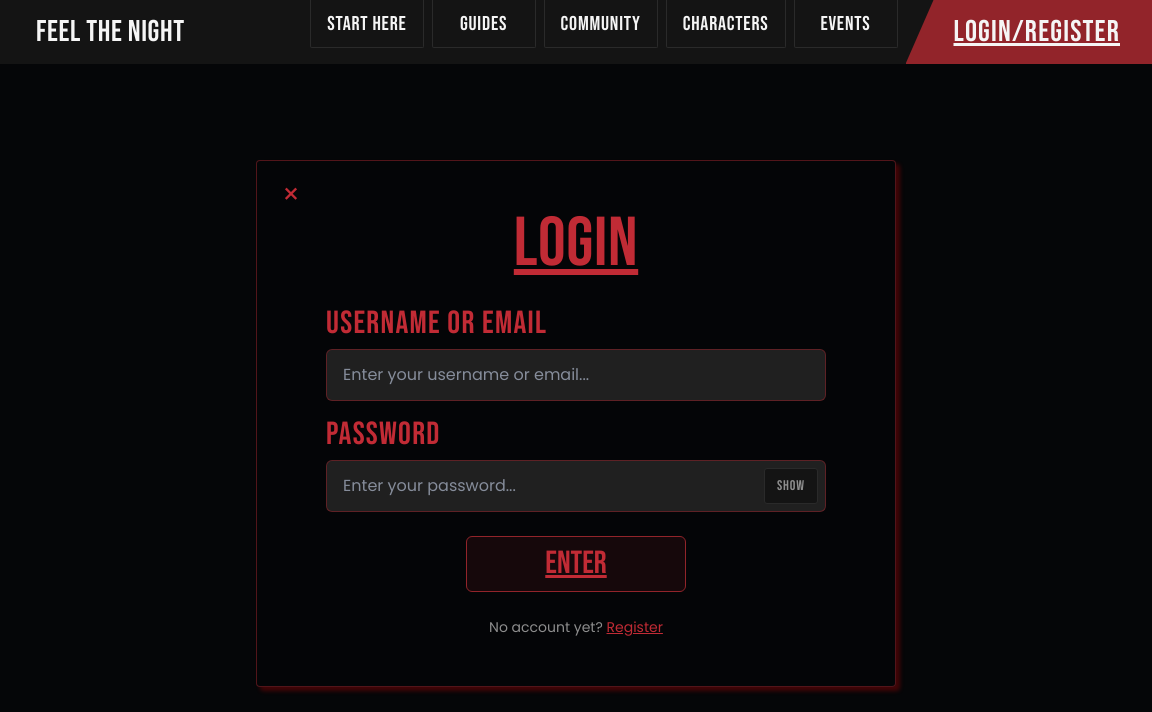
Test: Login › accepts a filled form without pretending to sign in
Step 1. Type "kisalto" into the field labelled "username or email" → (576, 375), box top-left (326, 349), bottom-right (826, 401)
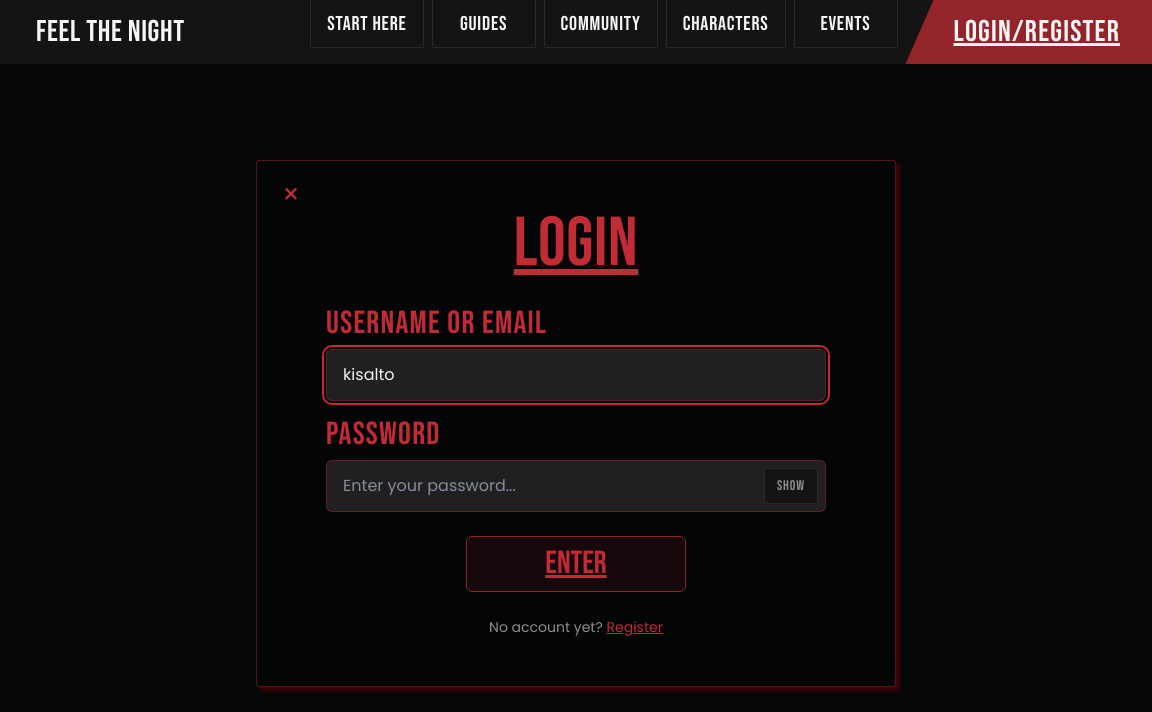
Step 2. Type "nightfall1" into the password field labelled "password" → (576, 486), box top-left (326, 460), bottom-right (826, 512)
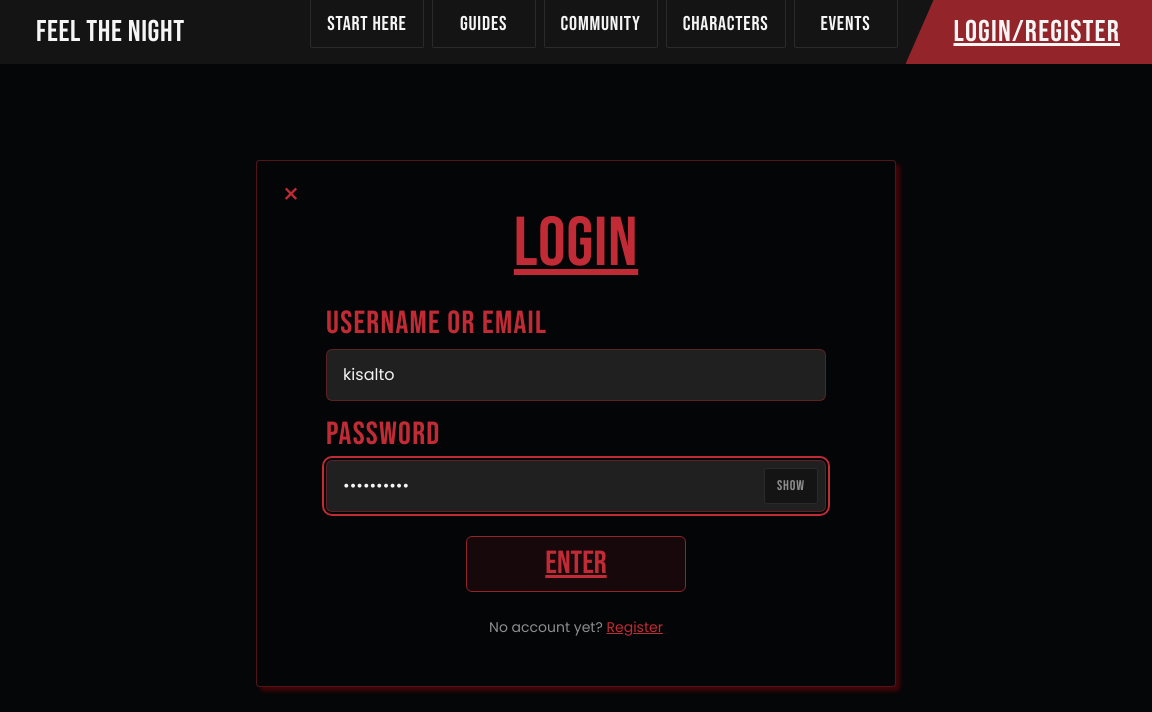
Step 3. Click the button "enter" → (576, 564), box top-left (466, 536), bottom-right (686, 592)
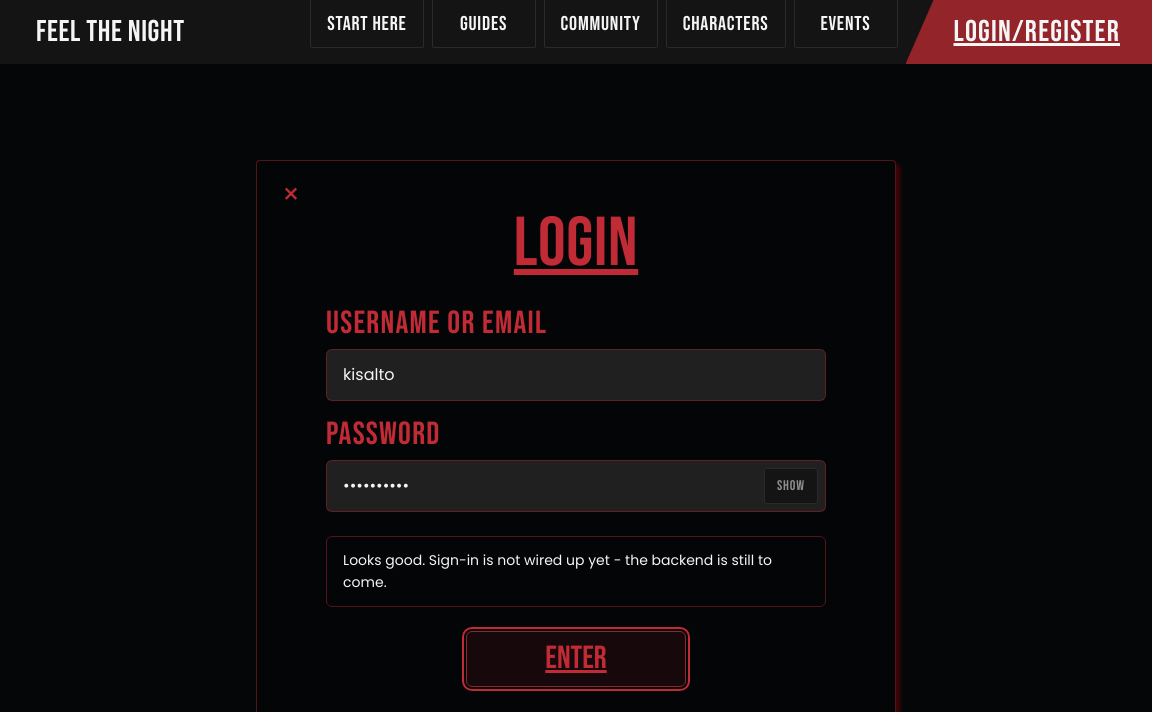
Result: the message shows "not wired up yet" at top-left (343, 550), bottom-right (772, 592)
